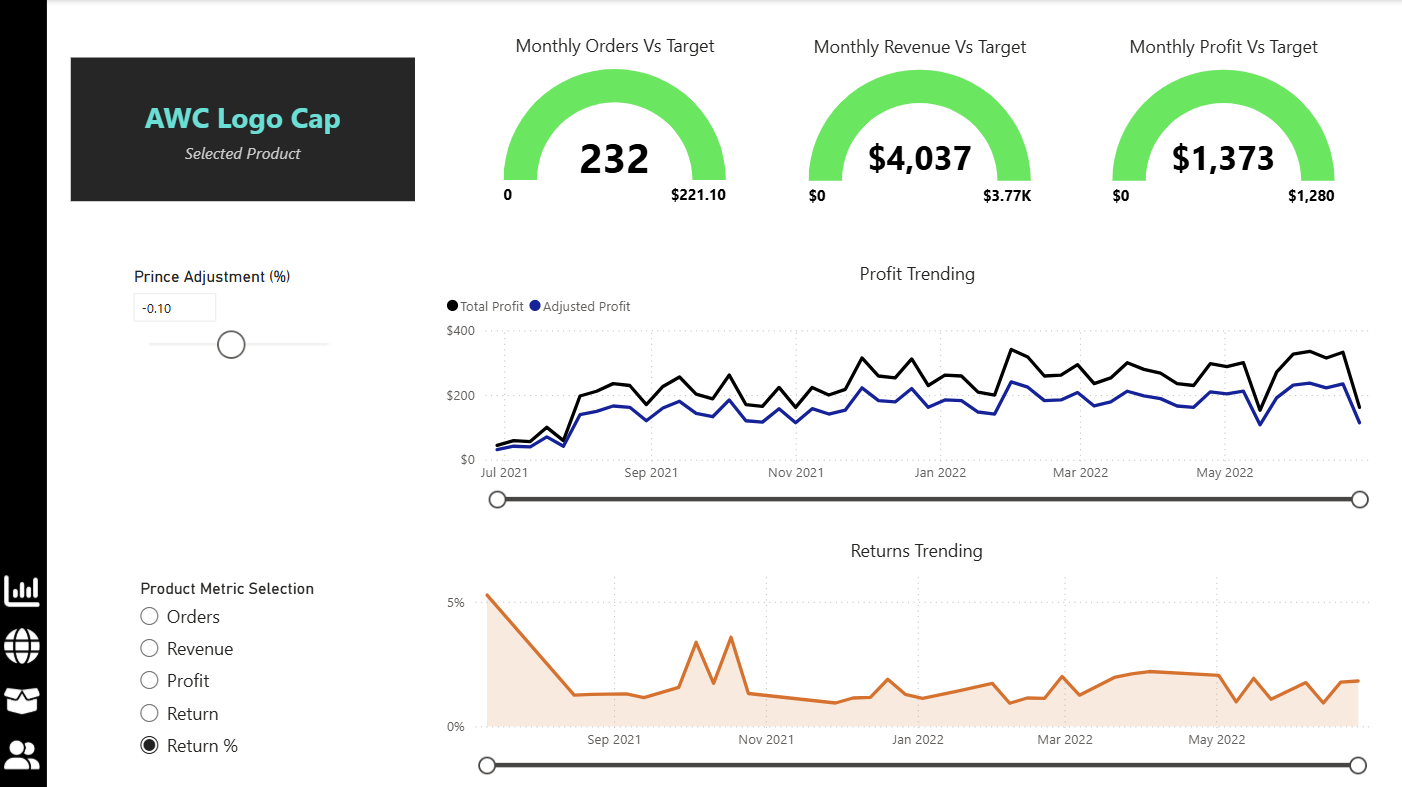

What the dashboard file says about the page in this screenshot:
{"tool":"powerbi","page":{"name":"Product Detail","canvas":[1280,720],"ordinal":2},"visuals":[{"type":"gauge","title":"Monthly Orders Vs Target","fields":{"Y":["Measure Table.Totals Order"],"MaxValue":["Measure Table.Order Target 10%"]},"box":[452.4,29.3,210.3,172.4],"z":0},{"type":"gauge","title":"Monthly Revenue Vs Target","fields":{"Y":["Measure Table.Total Revenue"],"MaxValue":["Measure Table.Revenue Target 10%"]},"box":[726.5,30,210.3,171.3],"z":1000},{"type":"gauge","title":"Monthly Profit Vs Target","fields":{"Y":["Measure Table.Total Profit"],"MaxValue":["Measure Table.Profit Target 10%"]},"box":[1000.6,30,210.3,171.3],"z":2000},{"type":"actionButton","box":[0.3,512.4,45.2,40.4],"z":2000,"group":"g1"},{"type":"lineChart","title":"Profit Trending","fields":{"Y":["Measure Table.Total Profit","Measure Table.Adjusted Profit"],"Category":["Calendar Lookup.Data Hierarchie.Start of Year","Calendar Lookup.Data Hierarchie.Start of Month","Calendar Lookup.Data Hierarchie.Start of Week","Calendar Lookup.Data Hierarchie.Date"]},"box":[399.9,234.8,859.7,226.2],"z":3000},{"type":"actionButton","box":[0.3,561.7,45.2,40.4],"z":3000,"group":"g1"},{"type":"lineChart","title":"Returns Trending","fields":{"Y":["Measure Table.Return Rate"],"Category":["Calendar Lookup.Data Hierarchie.Start of Year","Calendar Lookup.Data Hierarchie.Start of Month","Calendar Lookup.Data Hierarchie.Start of Week","Calendar Lookup.Data Hierarchie.Date"]},"box":[401.1,503.8,858.4,216.4],"z":4000},{"type":"actionButton","box":[0.3,611,45.2,40.4],"z":4000,"group":"g1"},{"type":"card","fields":{"Values":["Min(Product Lookup.ProductName)"]},"box":[66,51.4,310.6,129.6],"z":5000},{"type":"actionButton","box":[0.3,660.4,45.2,40.4],"z":5000,"group":"g1"},{"type":"shape","title":"Left Navigator","box":[0,0,45,720.2],"z":6000},{"type":"group","id":"g1","title":"Button Navigator","box":[0.3,512.4,45.2,188.3],"z":7000},{"type":"slicer","fields":{"Values":["Prince Adjustment (%).Prince Adjustment (%)"]},"box":[111,235.4,211.1,216.5],"z":8000},{"type":"slicer","fields":{"Values":["Metric Selection.Metric Selection"]},"box":[116.2,517.3,211.6,190.8],"z":9000}]}

Visuals, with their boxes on the page's 1280x720 design canvas (x1, y1, x2, y2). These are canvas units, not pixel positions in the 1402x787 screenshot, which may show the page scaled, cropped or inside an application window:
"Monthly Orders Vs Target" gauge: select_region(452, 29, 663, 202)
"Monthly Revenue Vs Target" gauge: select_region(726, 30, 937, 201)
"Monthly Profit Vs Target" gauge: select_region(1001, 30, 1211, 201)
actionButton: select_region(0, 512, 46, 553)
"Profit Trending" lineChart: select_region(400, 235, 1260, 461)
actionButton: select_region(0, 562, 46, 602)
"Returns Trending" lineChart: select_region(401, 504, 1260, 720)
actionButton: select_region(0, 611, 46, 651)
card - Min(Product Lookup.ProductName): select_region(66, 51, 377, 181)
actionButton: select_region(0, 660, 46, 701)
"Left Navigator" shape: select_region(0, 0, 45, 720)
"Button Navigator" group: select_region(0, 512, 46, 701)
slicer - Prince Adjustment (%).Prince Adjustment (%): select_region(111, 235, 322, 452)
slicer - Metric Selection.Metric Selection: select_region(116, 517, 328, 708)
